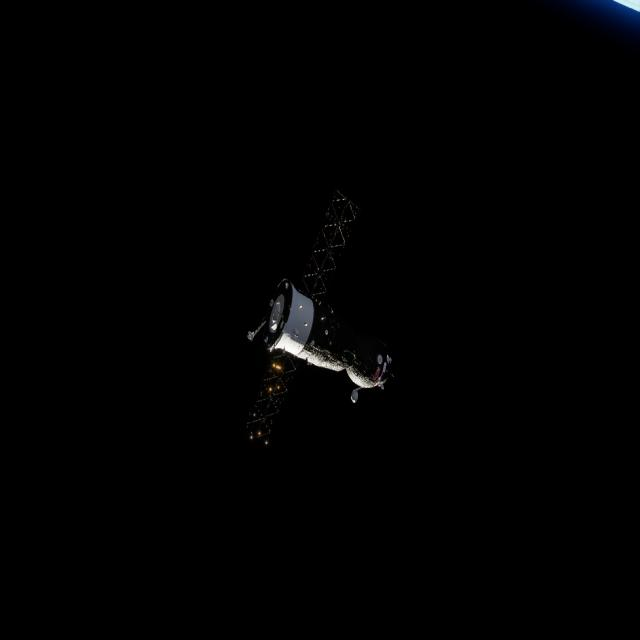Satellites revolving around earth: (244, 187, 396, 407)
